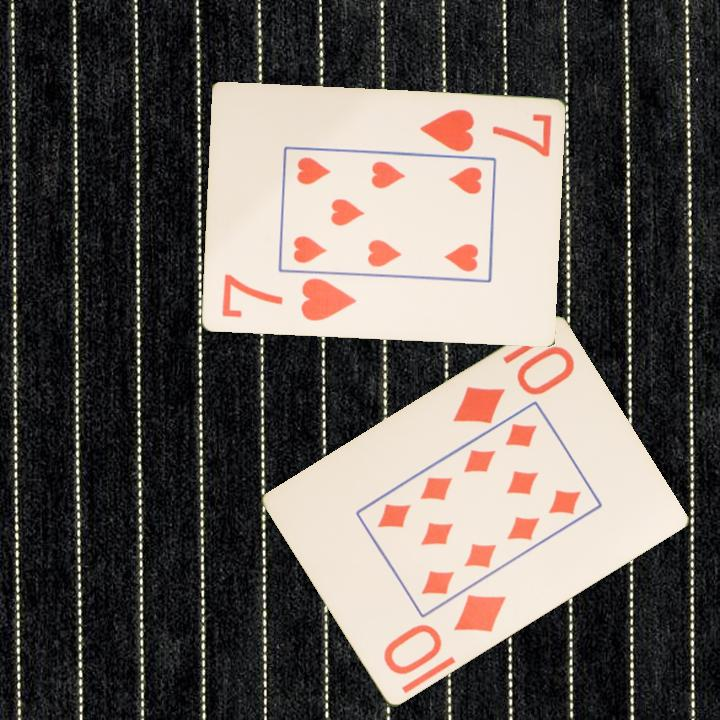10d: (379, 591, 510, 679), (449, 342, 578, 428)
7h: (218, 271, 359, 325), (416, 105, 554, 159)
